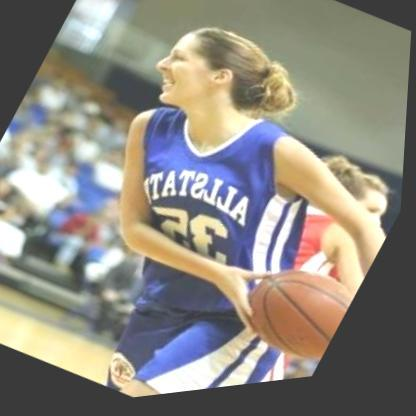basketball: (227, 247, 367, 388)
